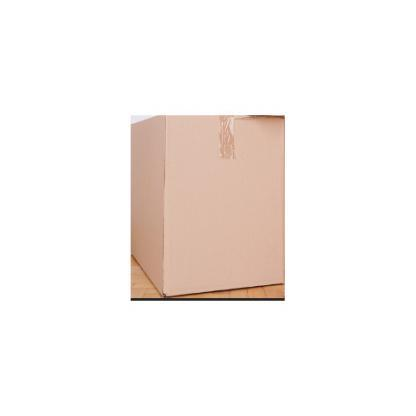package: (132, 116, 282, 294)
